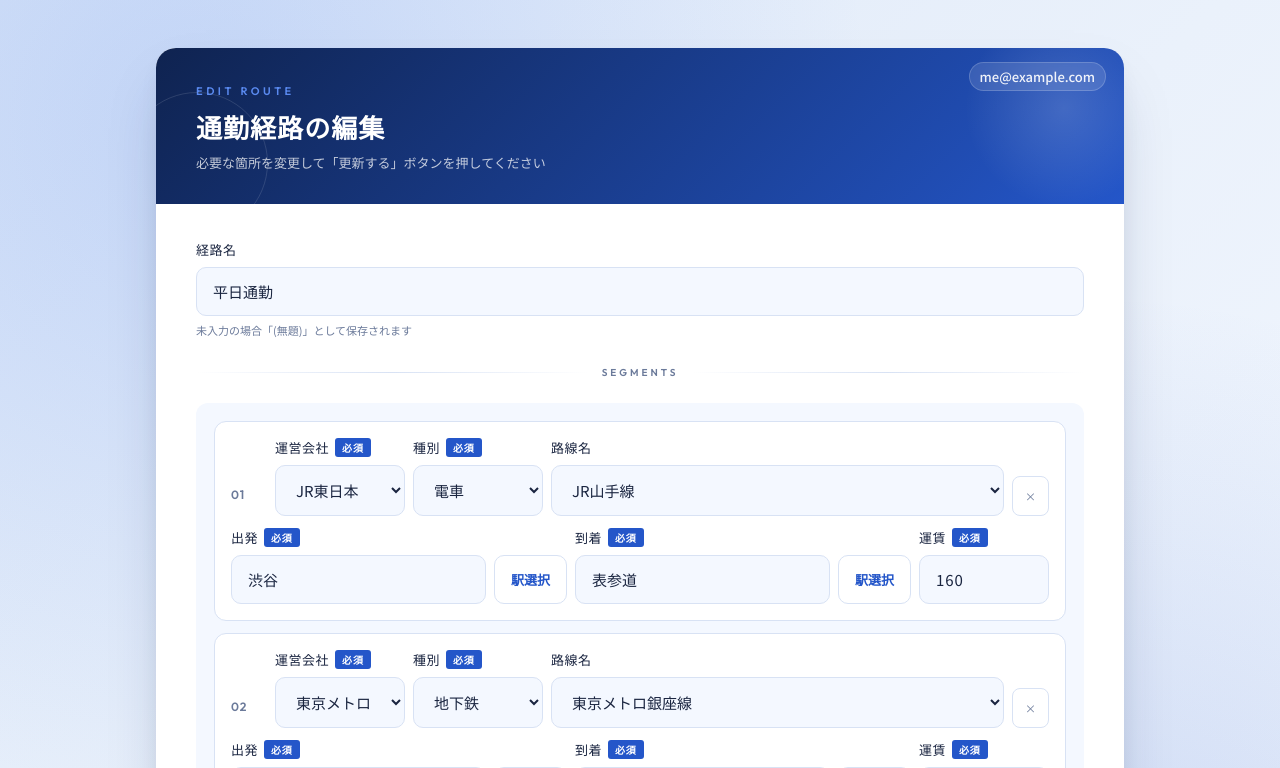
Test: RouteEdit › 409 conflict ではバナー + 最新値で再描画 (snapshot 更新, 遷移しない)
Replace the text in the field labelled "経路名" with "自分の編集" at [640, 292], box [196,267,1084,316]
(page scrolled)
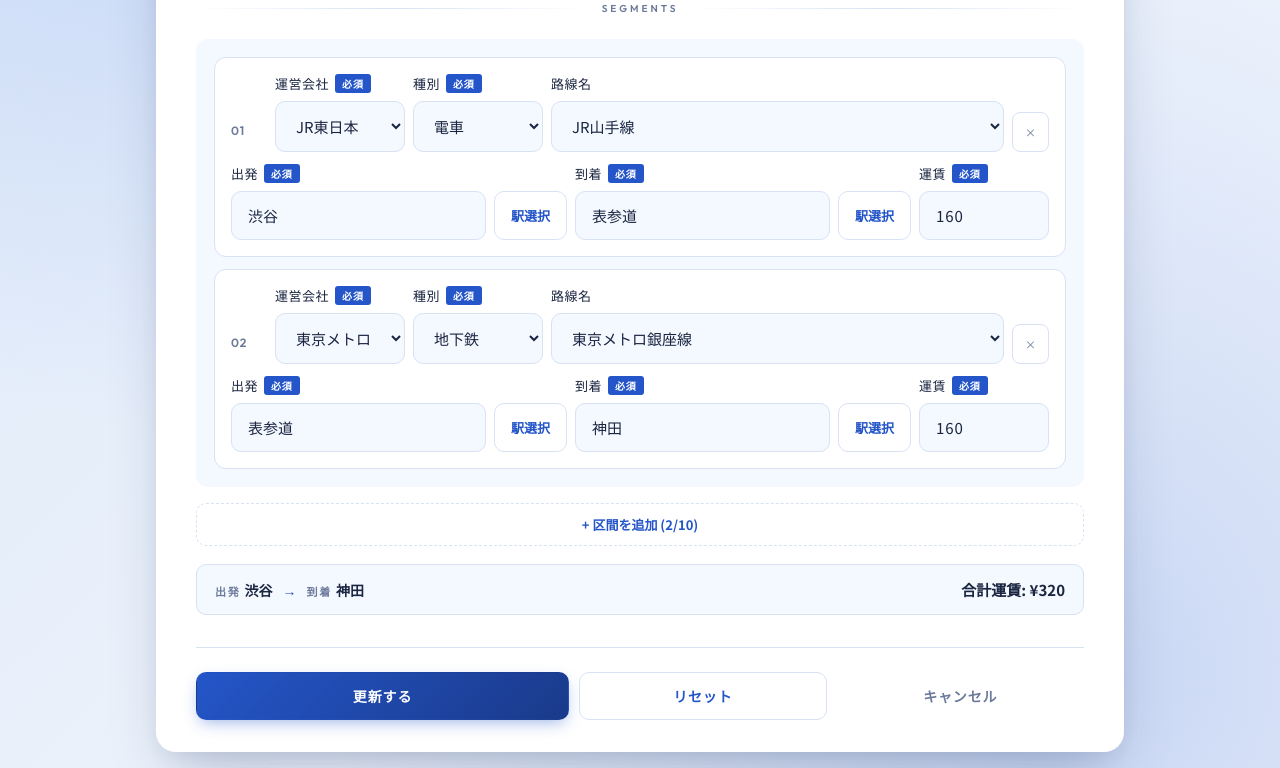
Click the button "更新する" at [383, 696], box [196,672,569,720]
(page scrolled)
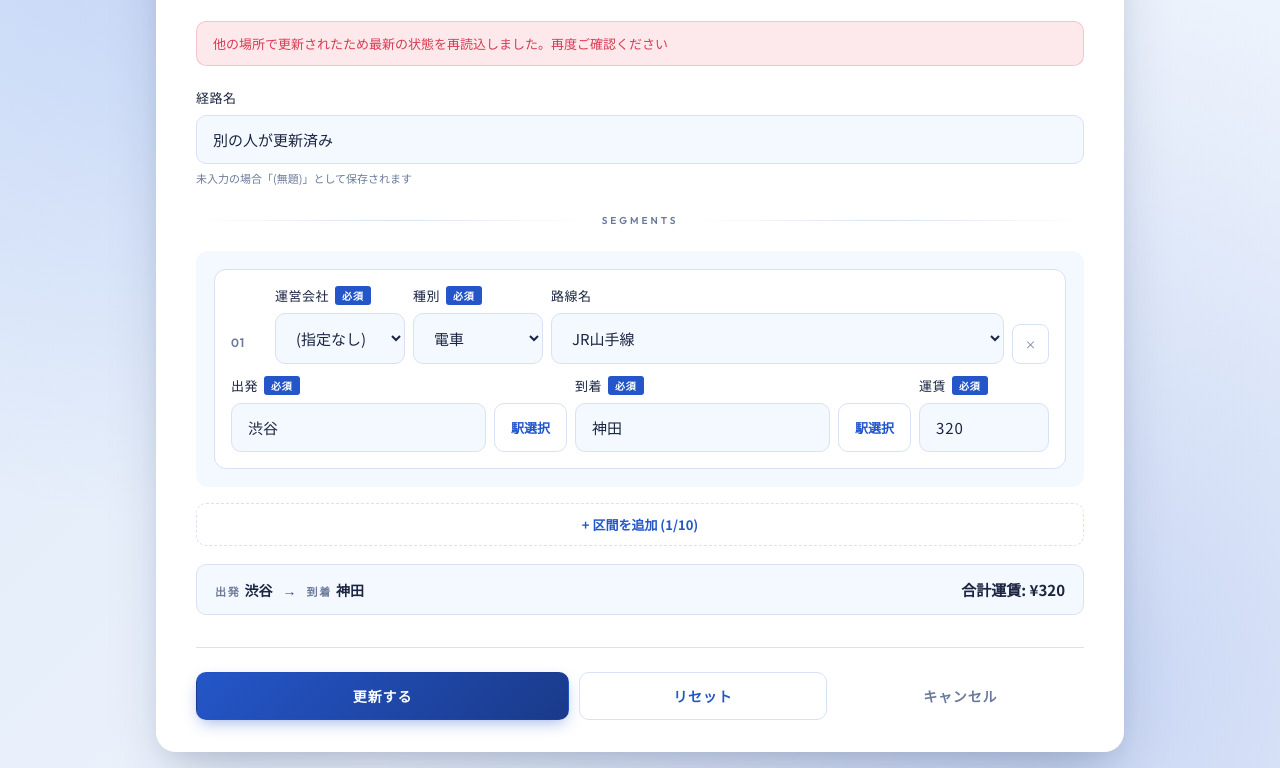
Result: the text "他の場所で更新されたため最新の状態を再読込しました。再度ご確認ください" is shown at [196,21,1084,66]
Result: the field labelled "経路名" holds "別の人が更新済み" at [196,115,1084,164]
